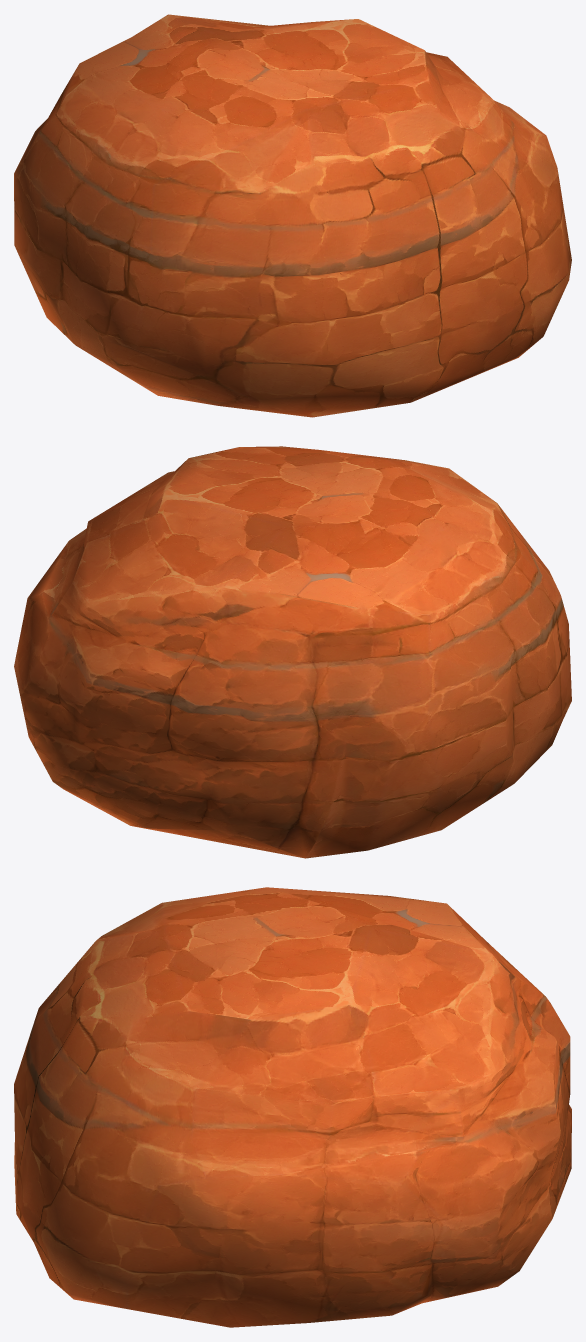
The model's file is Meshy_AI_Cracked_Orange_Sphere_0512182225_texture.fbx.
The picture shows the model from 3 angles, top to bottom: view 1: azimuth 30°, elevation 25°; view 2: azimuth 150°, elevation 25°; view 3: azimuth 270°, elevation 25°; orthographic projection. The views are drawn at different scales.
Parts seen in each view (by area): view 1: Mesh_0; view 2: Mesh_0; view 3: Mesh_0.
Boxes of the visible parts, <box> form: Mesh_0: <box>14,14,571,417</box>; Mesh_0: <box>14,446,571,858</box>; Mesh_0: <box>14,887,571,1327</box>.
Bounding box in the file's own units: 191 × 104 × 183.
1 material, 1 textured.
